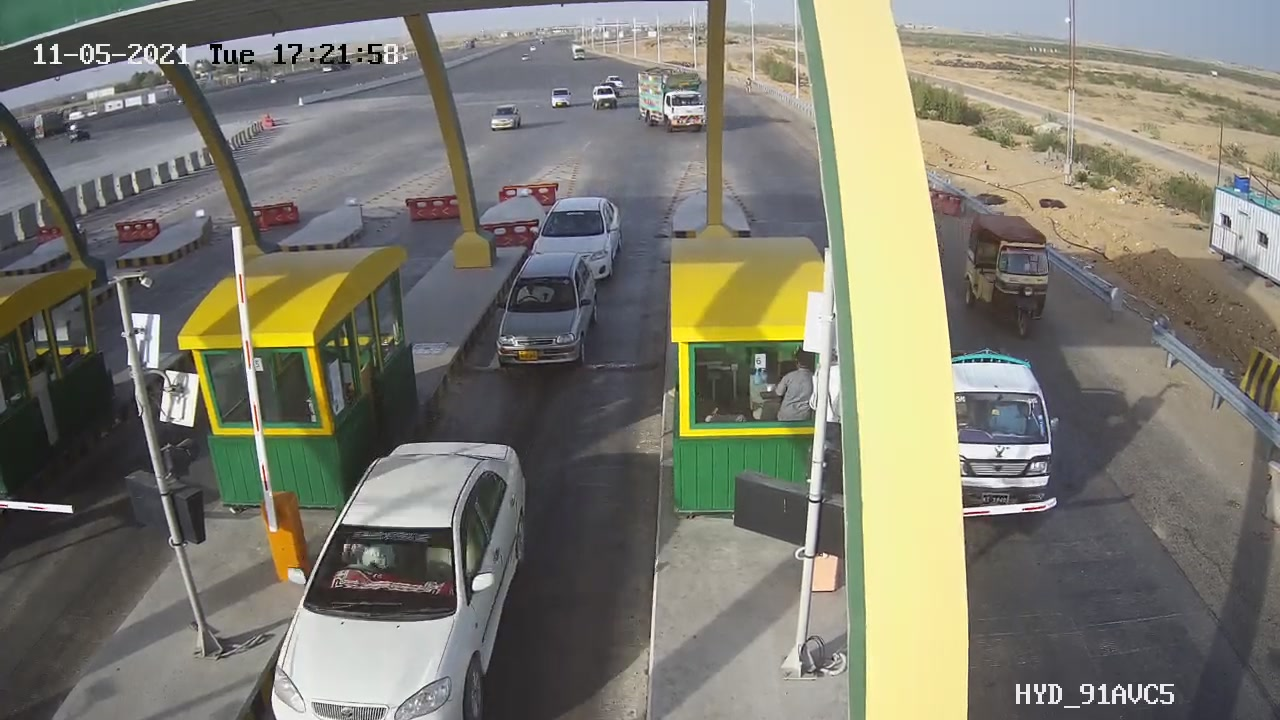F1: (486, 243, 613, 381)
